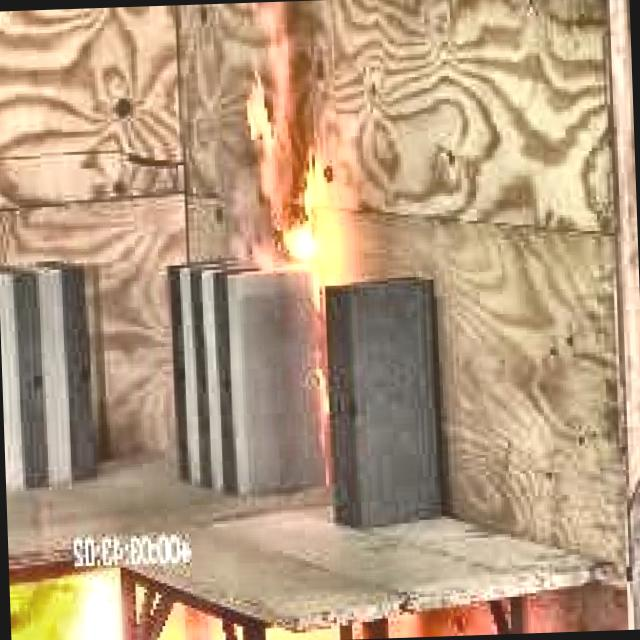fire: (242, 67, 360, 374)
